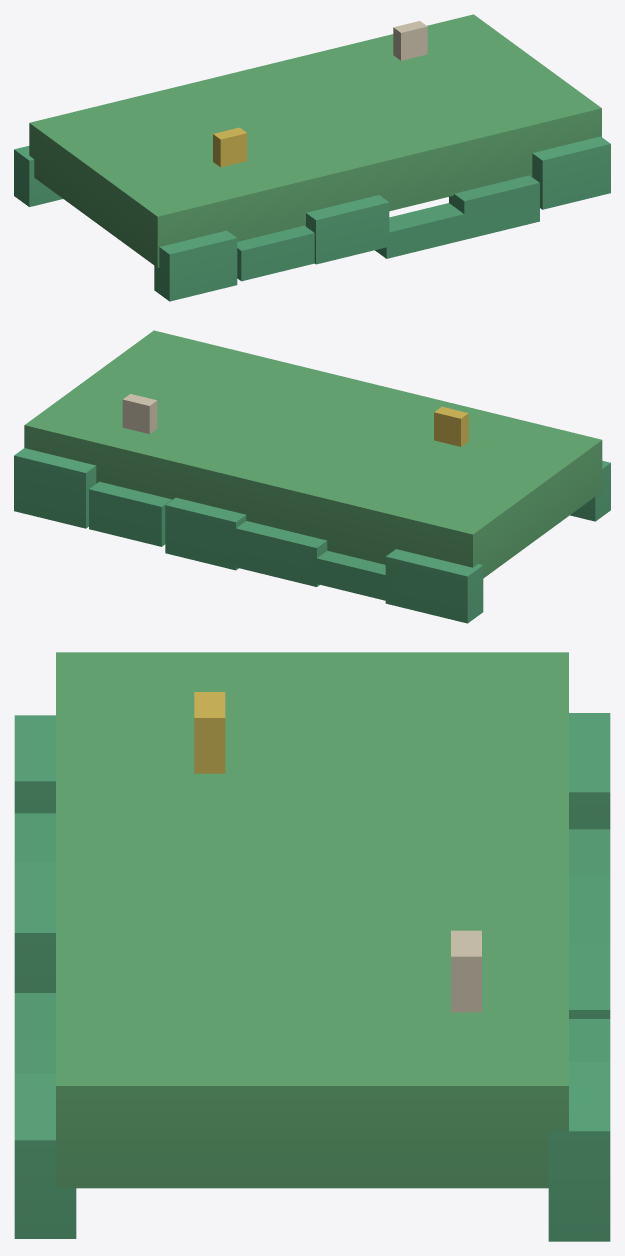
File: ledge-cap-2m.glb
The picture shows the model from 3 angles, top to bottom: view 1: azimuth 30°, elevation 25°; view 2: azimuth 150°, elevation 25°; view 3: azimuth 270°, elevation 25°; orthographic projection. The views are drawn at different scales.
Parts seen in each view (by area): view 1: ledge-cap-2m_body; view 2: ledge-cap-2m_body; view 3: ledge-cap-2m_body.
Part boxes in pixels (x1,y1,x2,y2): ledge-cap-2m_body: (14,14,610,301); ledge-cap-2m_body: (14,330,610,623); ledge-cap-2m_body: (14,652,610,1241).
Bounding box in the file's own units: 2.02 × 0.4988 × 1.16.
